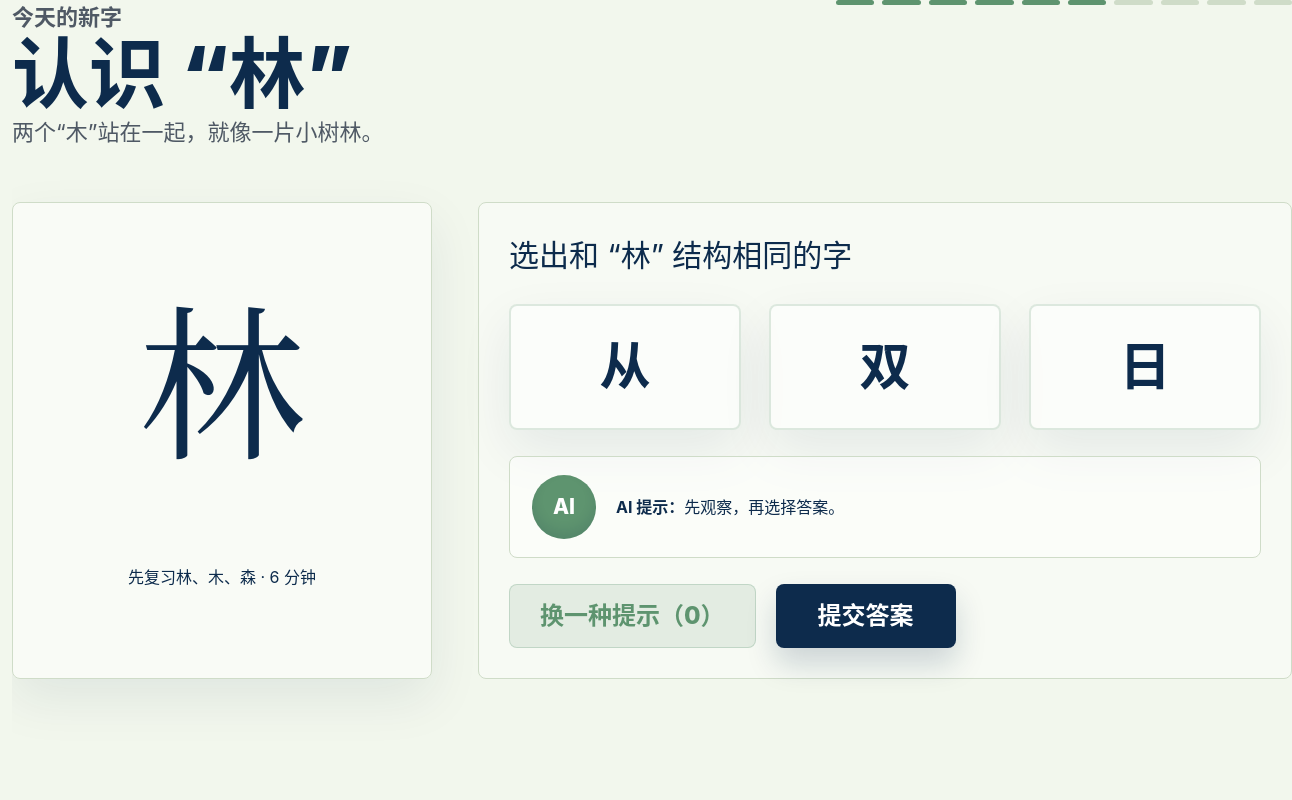
Test: TaskPractice › advances after a correct literacy answer
Click the button "双" at (885, 367), box [769, 304, 1001, 430]
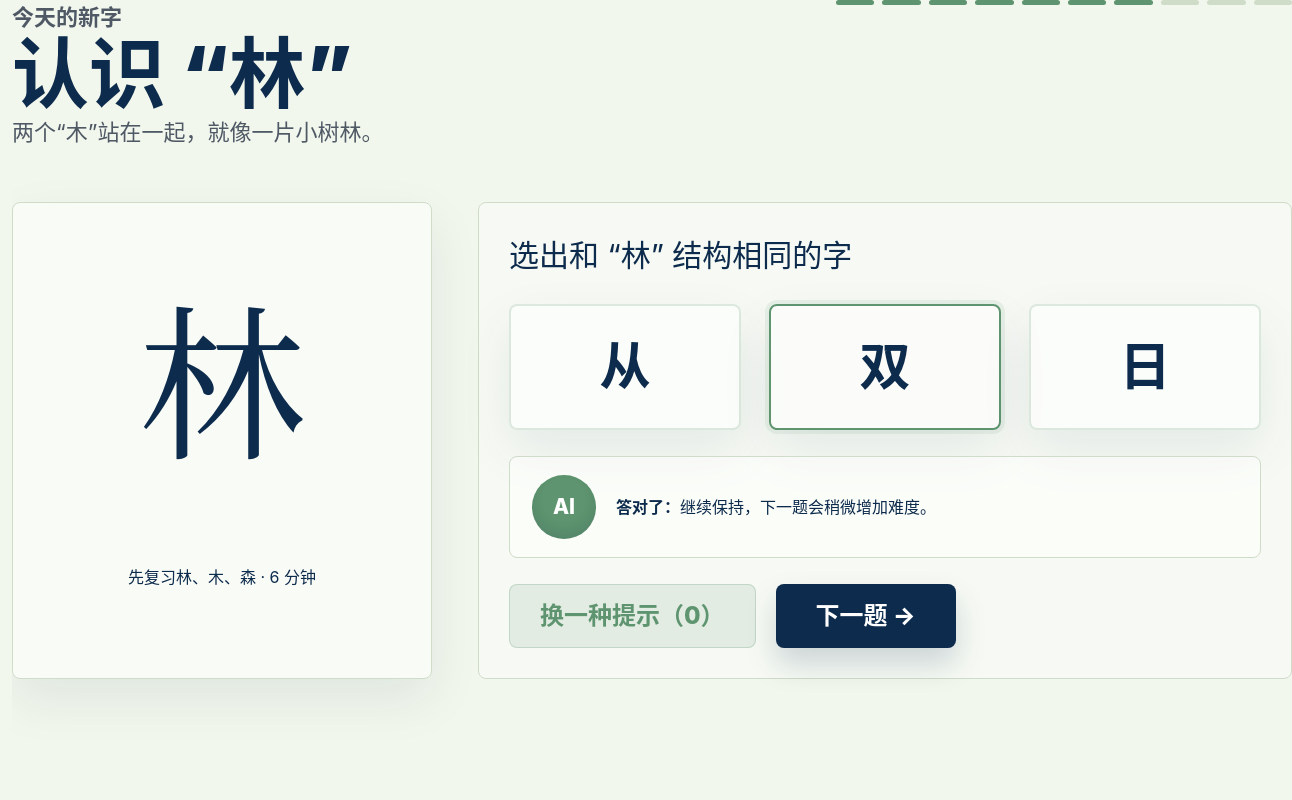
Click the button "下一题 →" at (866, 616), box [776, 584, 956, 648]
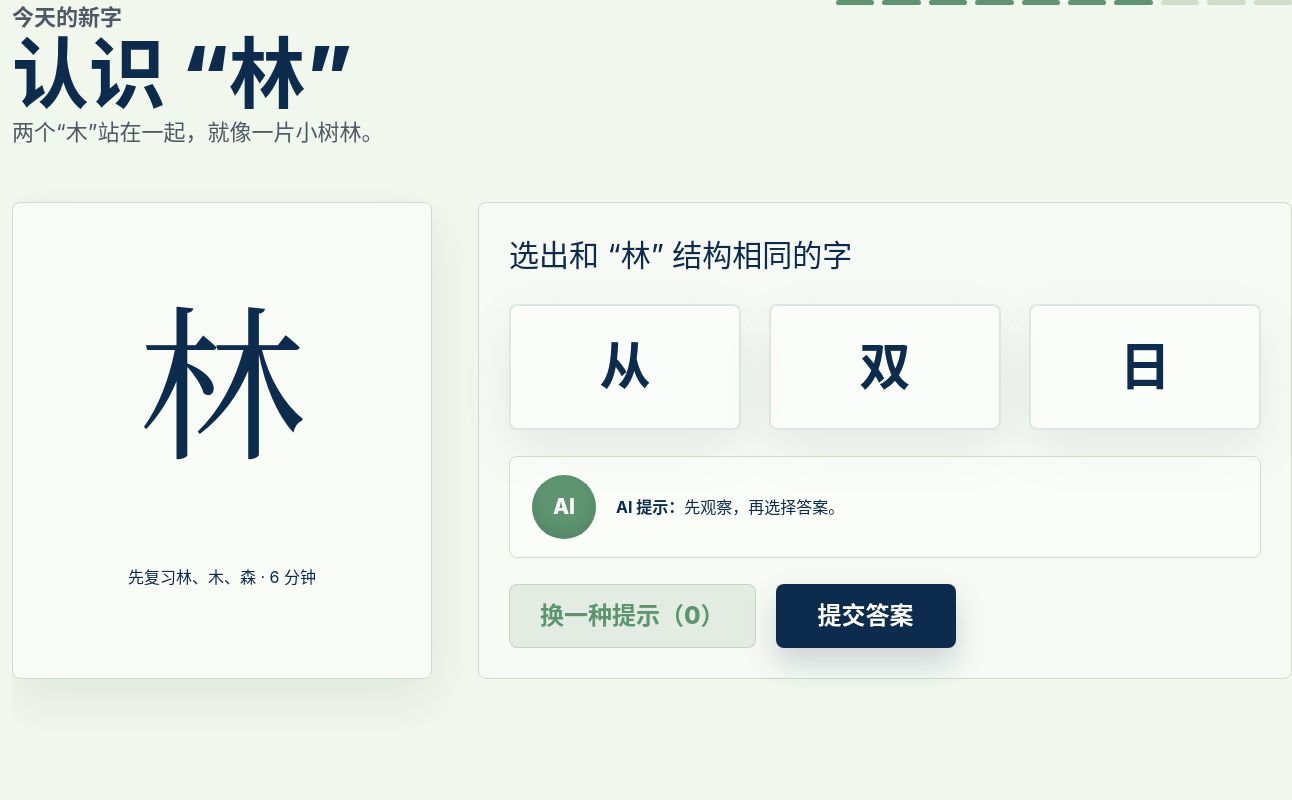
Result: the text "AI 提示：" is shown at [616, 497, 684, 517]
